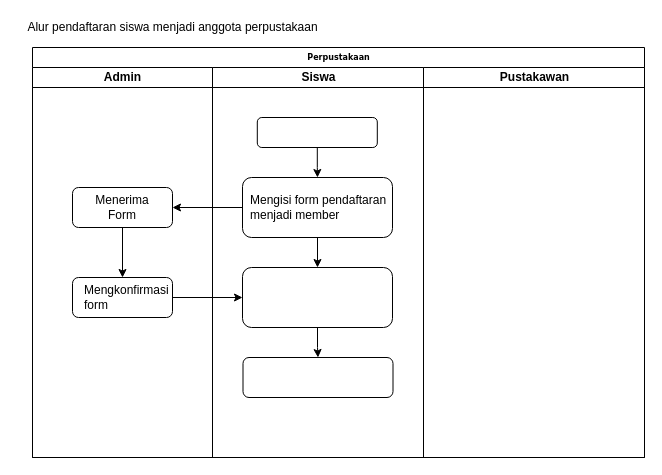
This 662x475 diagram has some shape labels left out. The centre of each missing label's shape, as x and y in pixels:
"Datang ke perpus" goes at [316,132].
"Menerima konfirmasi sudah menjadi member" goes at [317,297].
"selesai" goes at [317,377].
